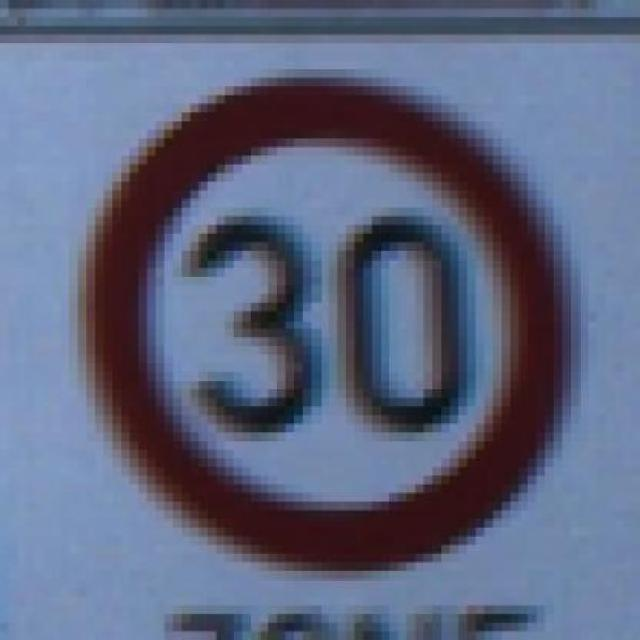Speed Limit 30 KMPh: (26, 69, 614, 580)
